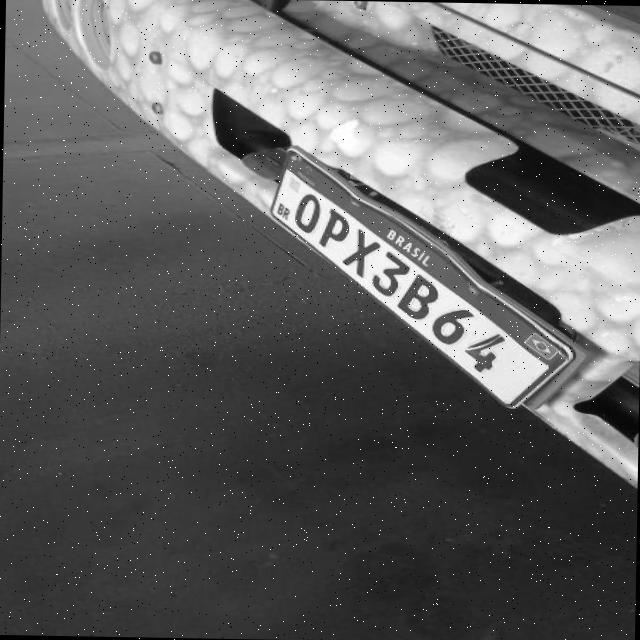placa_mercosul: (271, 149, 593, 409)
